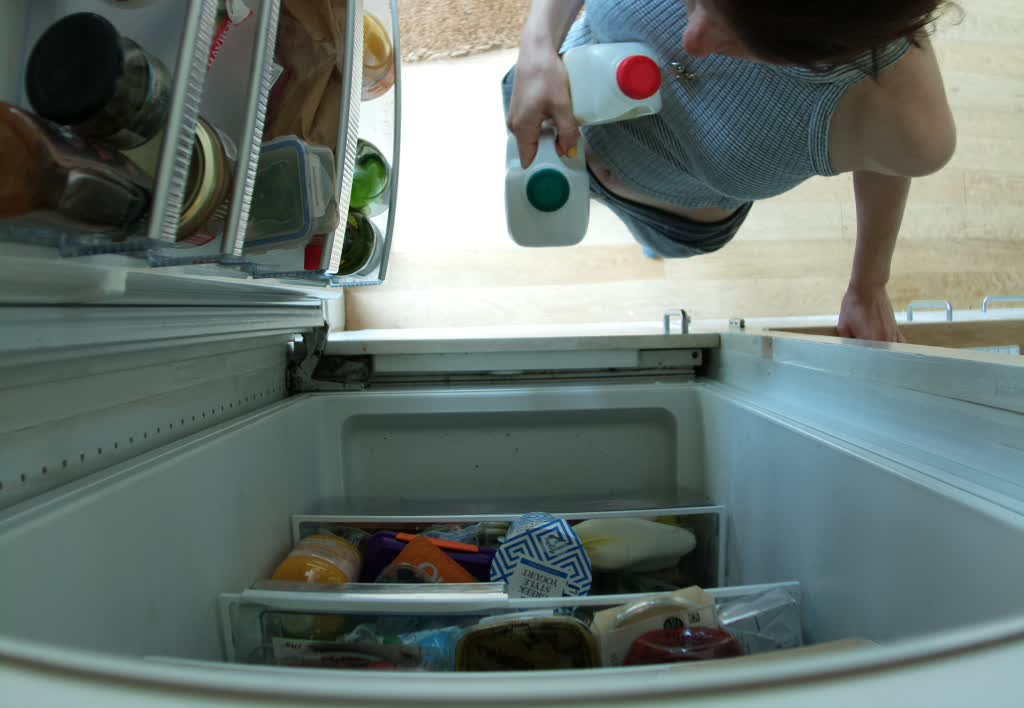milk: (503, 122, 591, 250), (556, 43, 668, 124)
